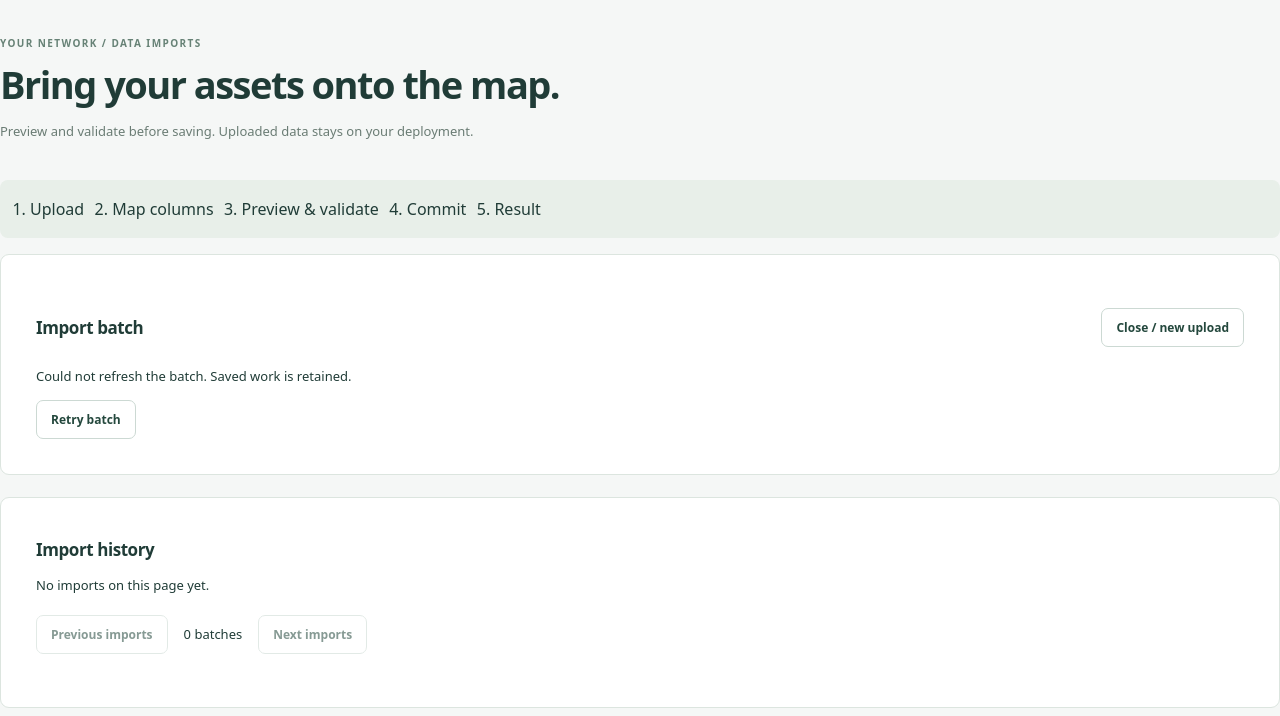
Test: retries a failed batch read and shows empty history independently
Expected: the text "No imports on this page yet." is shown, [36,576,209,594]
Click the button "Retry batch".
click(86, 420)  # box [36,400,136,440]
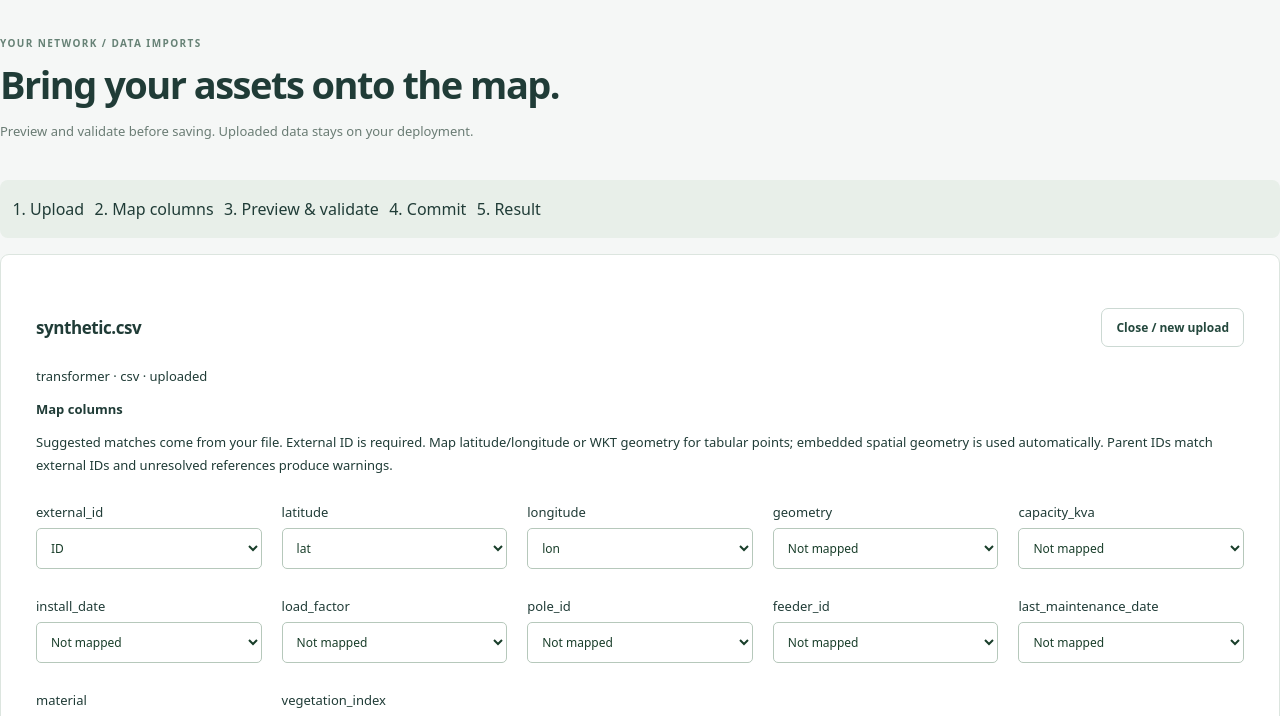
Expected: the dropdown labelled "external_id" shows "ID", [36,528,262,569]
